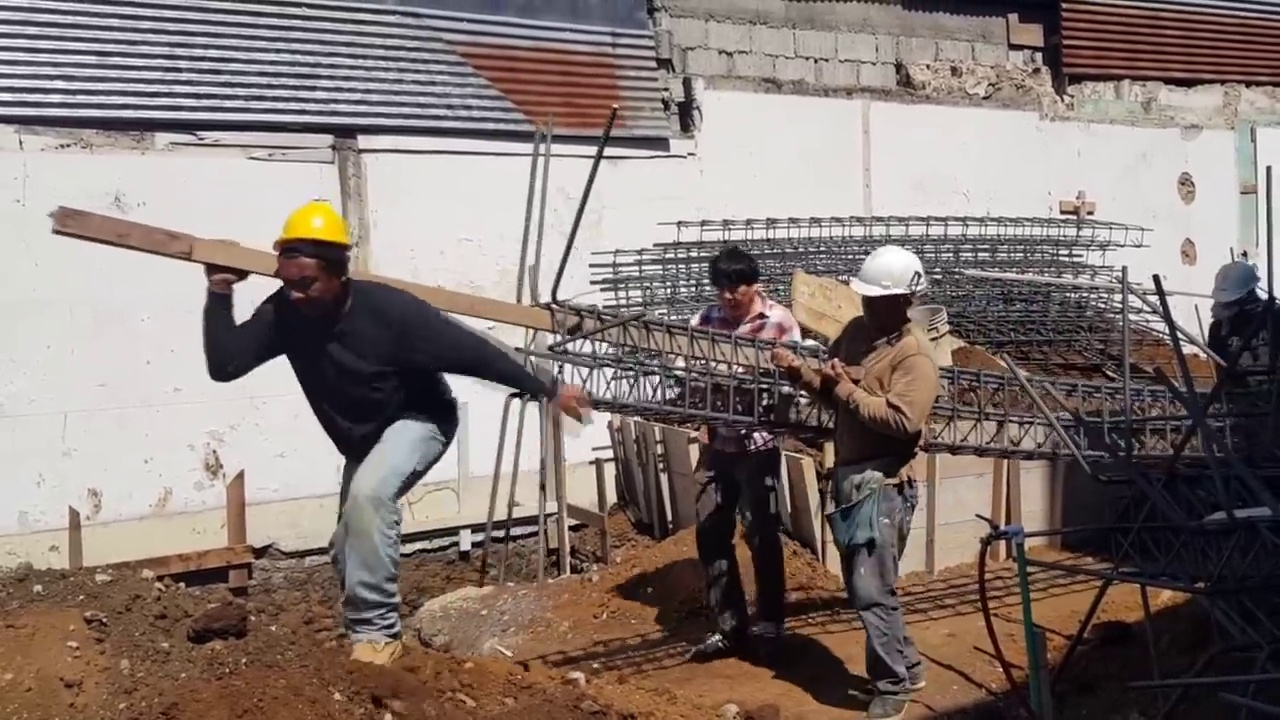helmet: (859, 240, 929, 304), (268, 198, 348, 253), (1215, 260, 1270, 303)
helmet-off: (708, 247, 764, 317)
helmet-on: (262, 194, 356, 326), (845, 230, 933, 328), (1209, 261, 1273, 332)
person: (205, 189, 591, 663), (788, 221, 954, 713), (679, 247, 796, 655), (1200, 257, 1274, 415)
